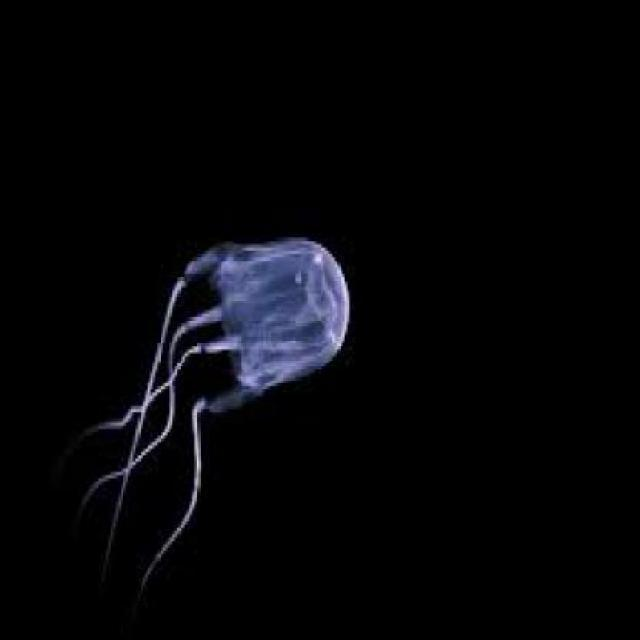Jellyfish: (105, 218, 350, 514)
